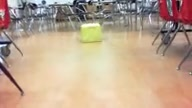cube: (80, 24, 101, 43)
